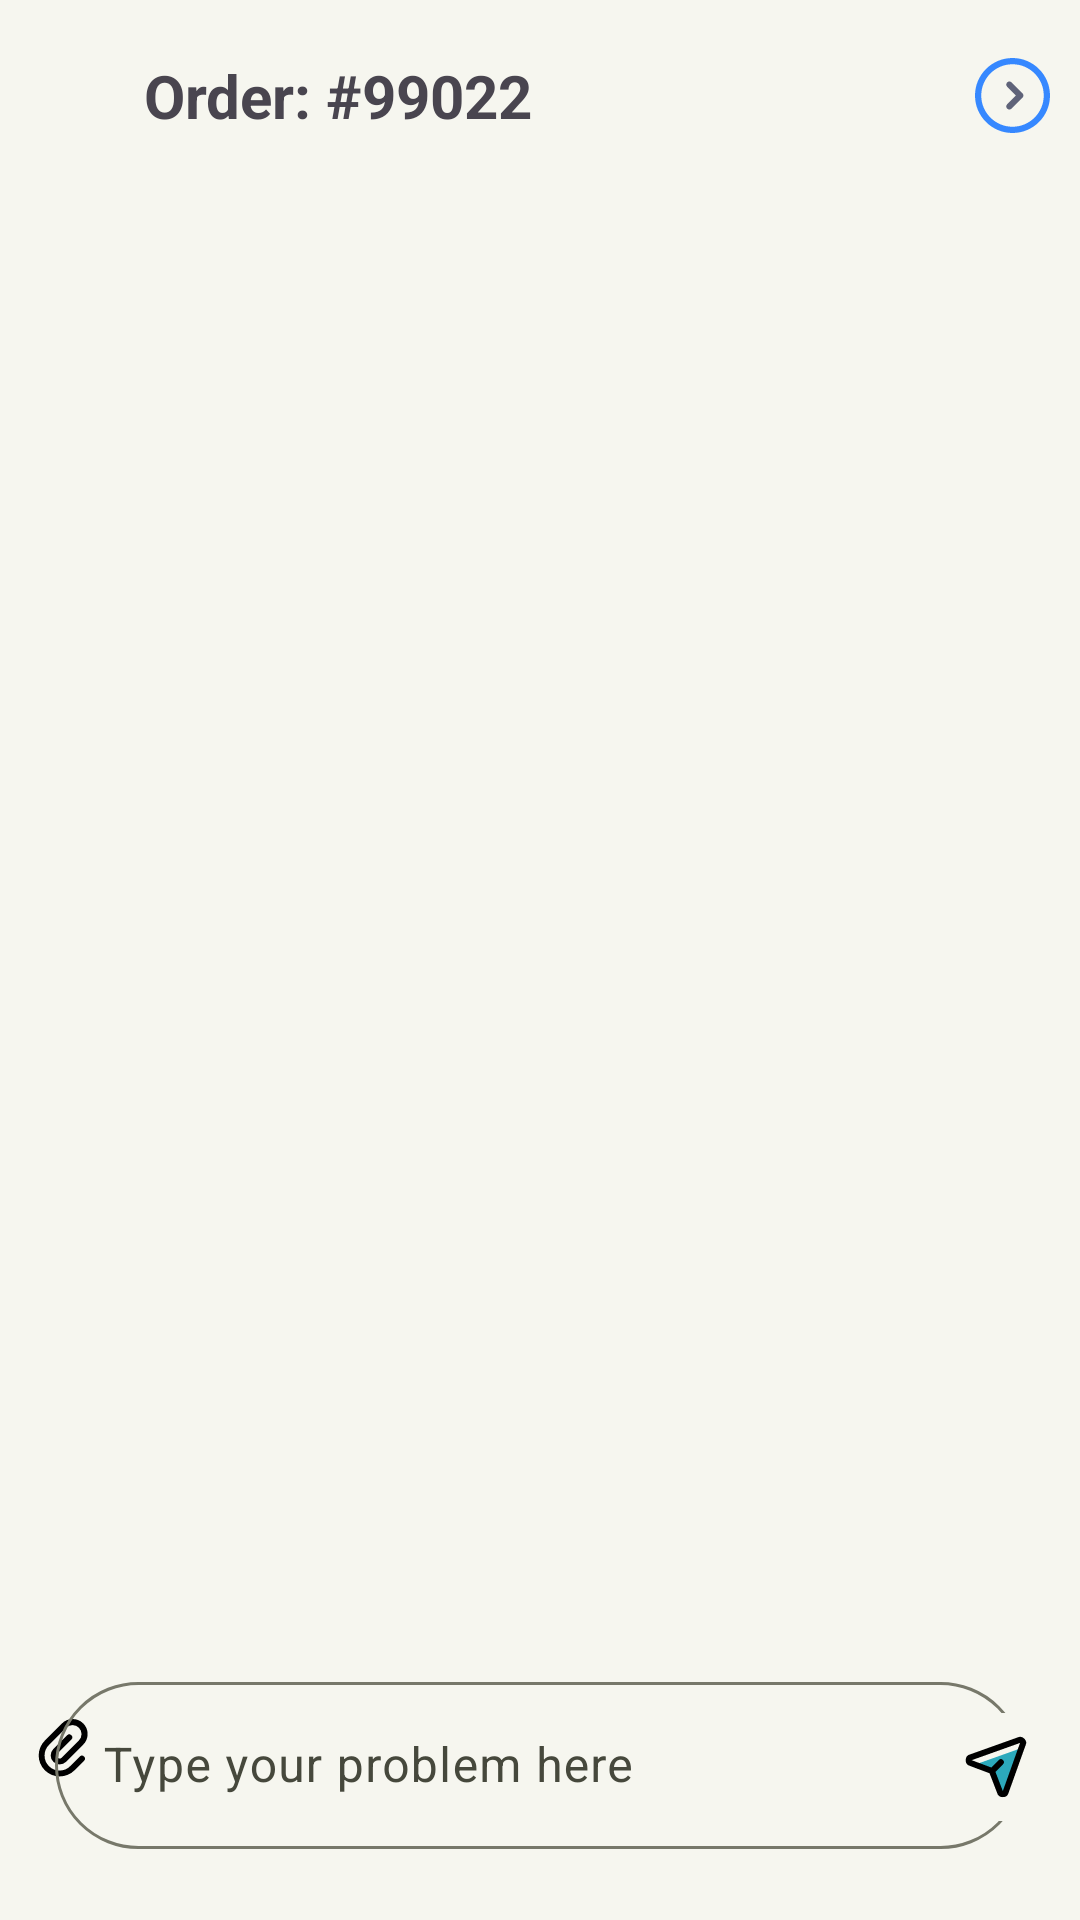

Where icons sit on this 1080px×1920px app screen, as (x1, y1, x2, y2):
attach: (38, 1713, 88, 1785)
more: (975, 58, 1050, 133)
send chat: (965, 1736, 1027, 1797)
